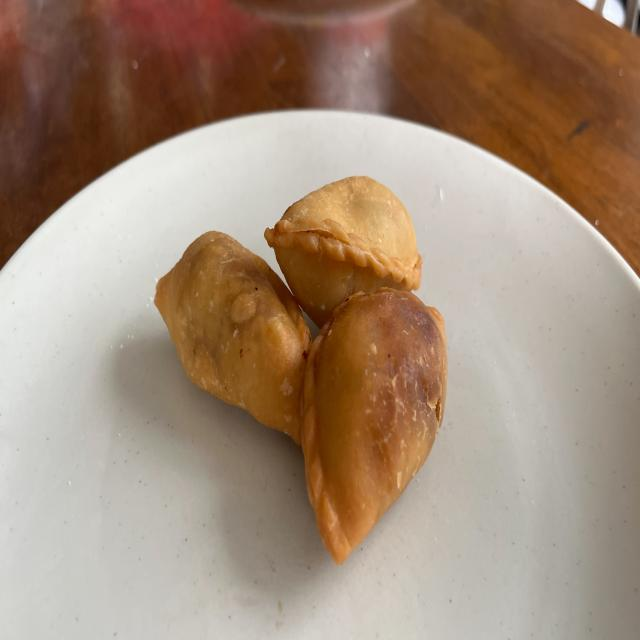karipap: (301, 287, 448, 564), (155, 231, 311, 444), (265, 176, 422, 329)
